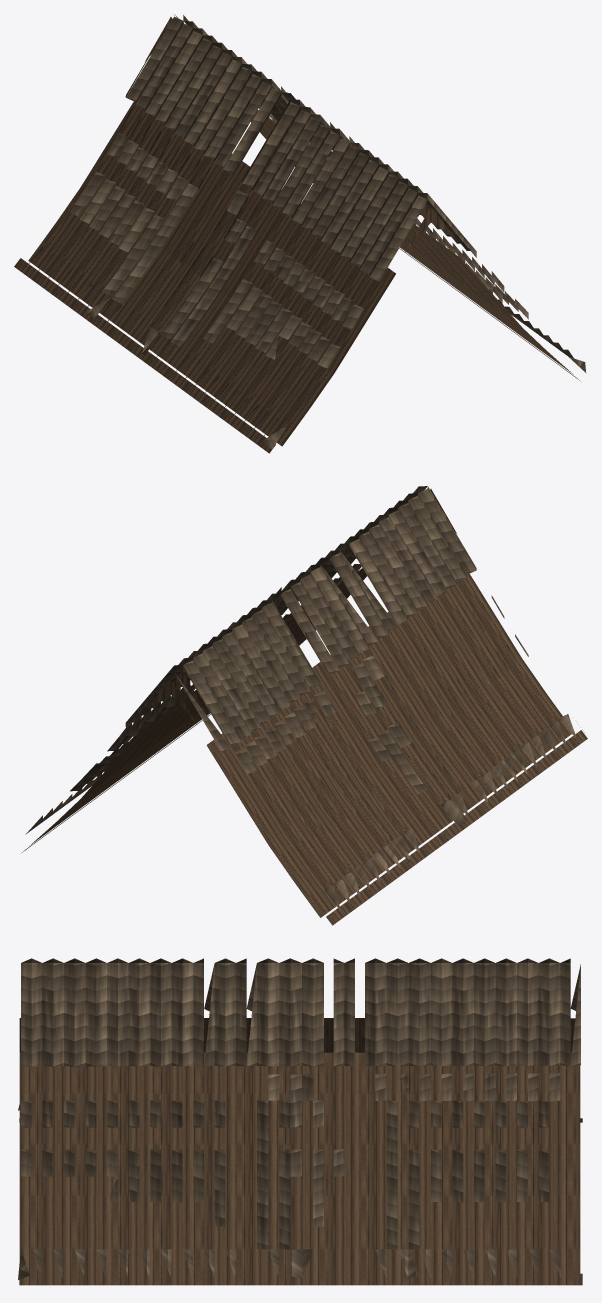
File: Roof_Shingle_8x12_LOD1.gltf
3 renders of one model, top to bottom at view 1: azimuth 30°, elevation 25°; view 2: azimuth 150°, elevation 25°; view 3: azimuth 270°, elevation 25°, orthographic. The views are drawn at different scales.
Parts seen in each view (by area): view 1: Roof_Shingle_8x12_LOD1; view 2: Roof_Shingle_8x12_LOD1; view 3: Roof_Shingle_8x12_LOD1.
Boxes of the visible parts, x1=… form: Roof_Shingle_8x12_LOD1: x1=14, y1=14, x2=586, y2=453; Roof_Shingle_8x12_LOD1: x1=22, y1=486, x2=587, y2=925; Roof_Shingle_8x12_LOD1: x1=18, y1=958, x2=582, y2=1285.
Bounding box in the file's own units: 9.95 × 6.54 × 13.89.
Materials: 2 (2 with a texture image).
